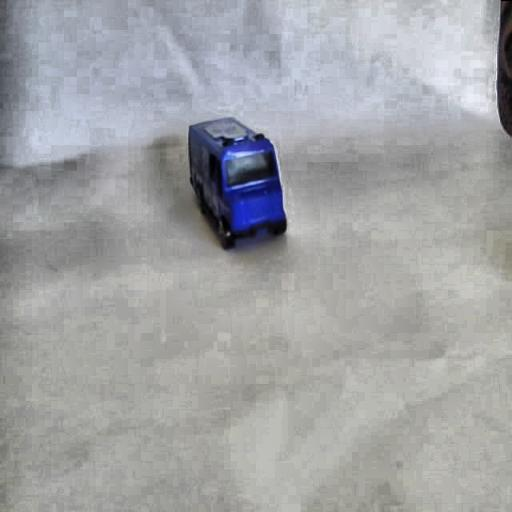police car: (186, 110, 289, 248)
